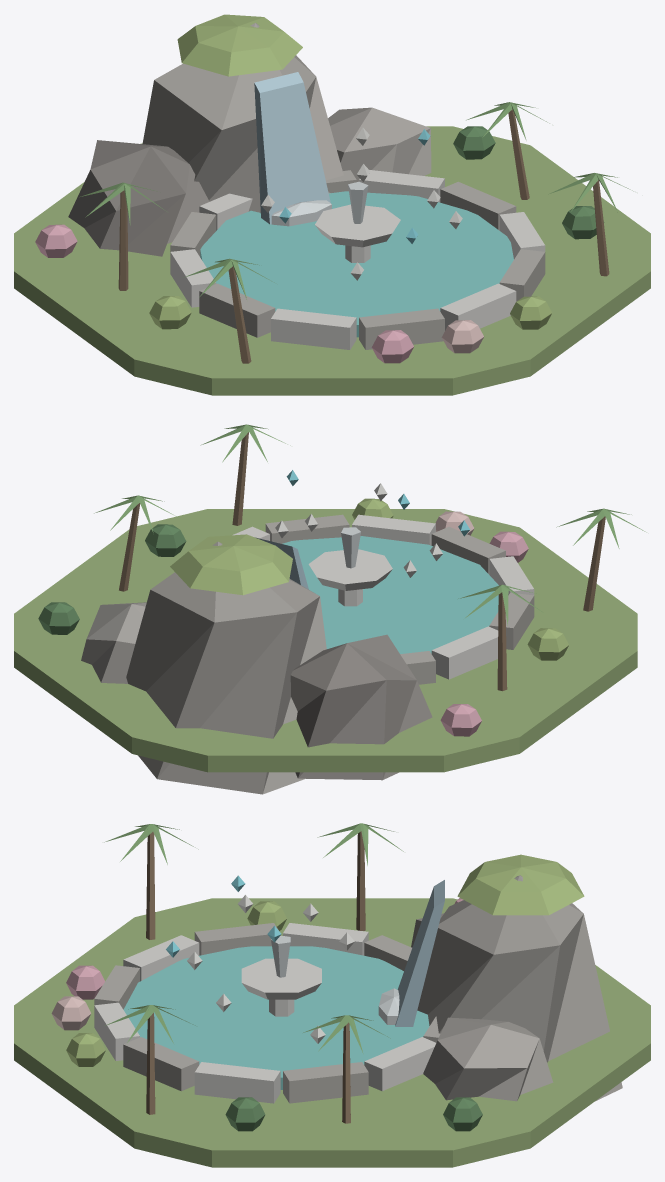
File: fountain-of-youth.glb
The picture shows the model from 3 angles, top to bottom: view 1: azimuth 30°, elevation 25°; view 2: azimuth 150°, elevation 25°; view 3: azimuth 270°, elevation 25°; orthographic projection. The views are drawn at different scales.
Parts seen in each view (by area): view 1: LOD0; view 2: LOD0; view 3: LOD0.
Boxes of the visible parts, bbox=[...] form: LOD0: bbox=[14, 14, 650, 395]; LOD0: bbox=[14, 424, 646, 794]; LOD0: bbox=[14, 823, 650, 1167].
Size of what is drawn, in the model's own units: 1.65 by 0.6318 by 1.76.
